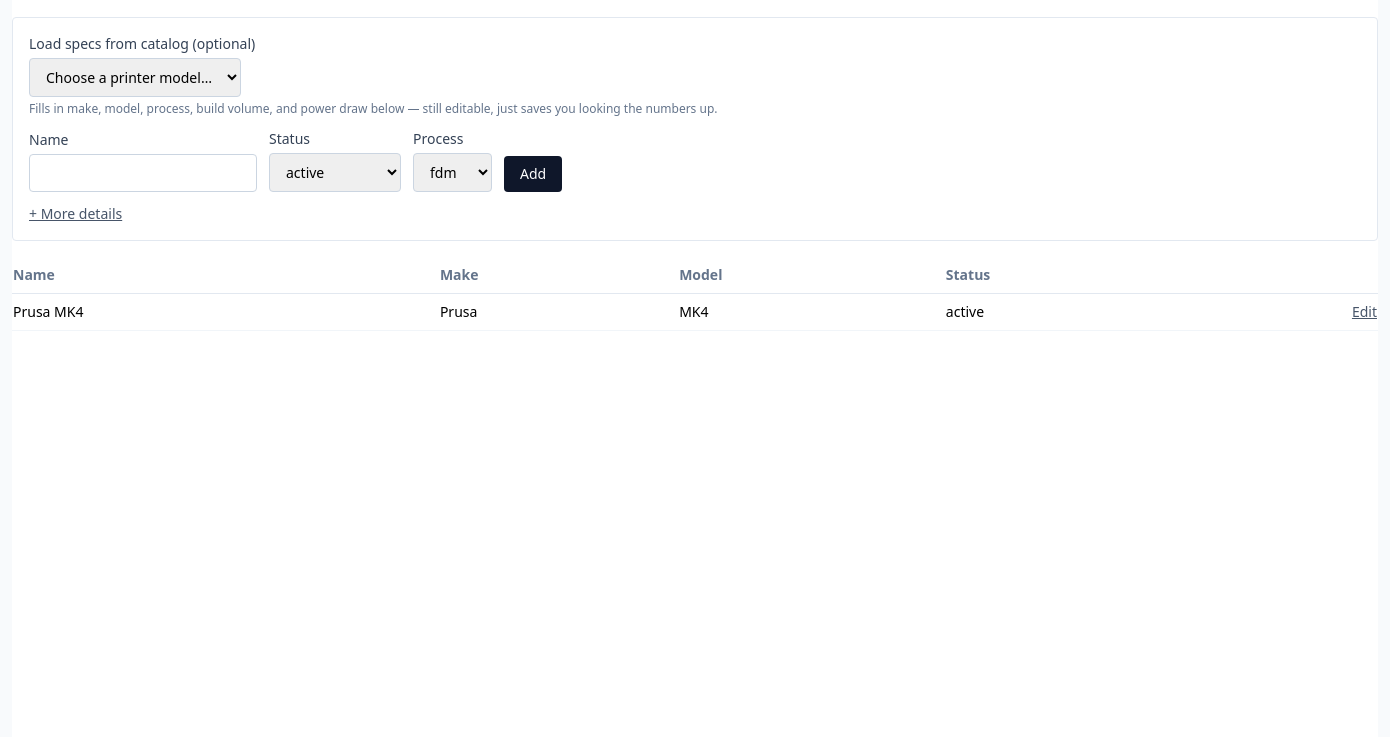
it: PrintersListPage — edit in place › renders Presets/Maintenance Log sections in the expanded edit row, always expanded (not behind More details)
The image size is (1390, 737).
Expected: the text "Prusa MK4" is shown, [12,294,439,330]
Click the button "Edit" at (1364, 312), box [1352,302,1377,322]
(page scrolled)
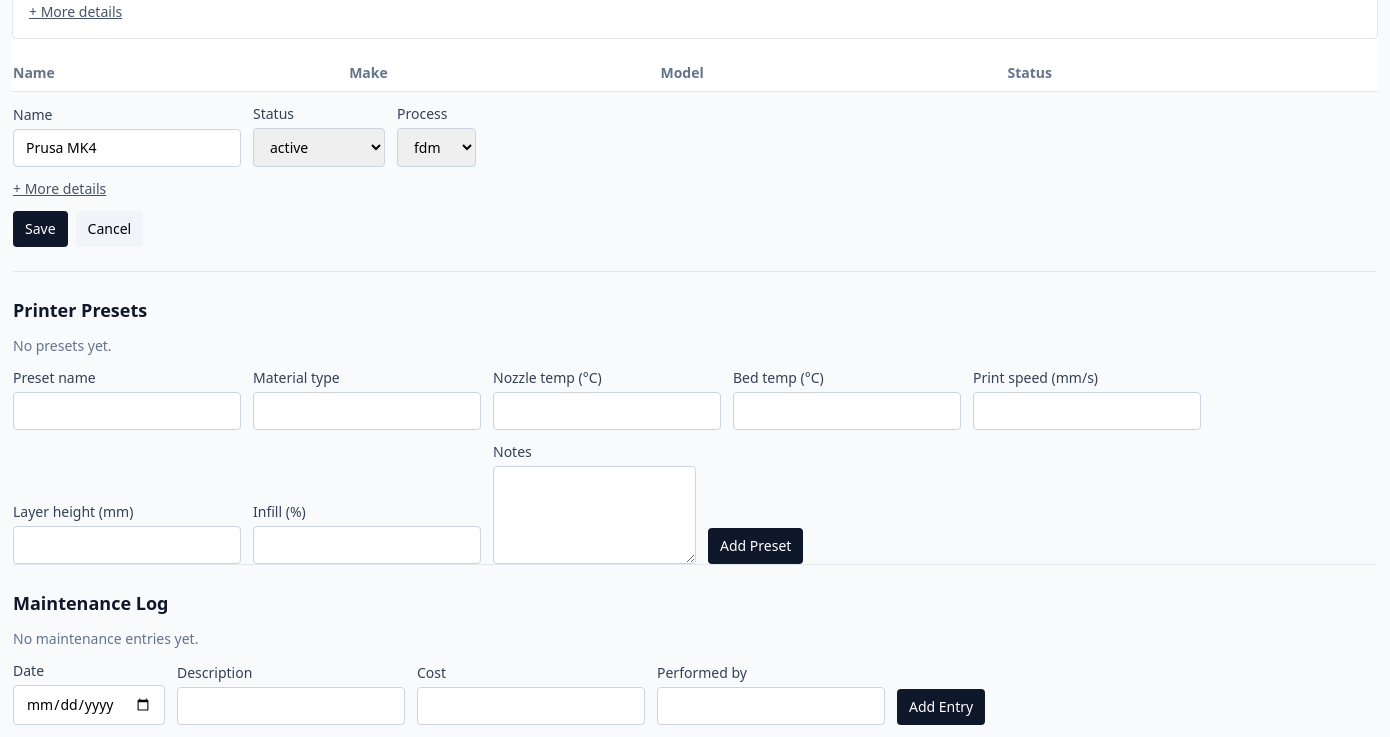
Result: the heading "Printer Presets" is shown at [13,298,147,322]
Result: the heading "Maintenance Log" is shown at [13,591,168,615]
